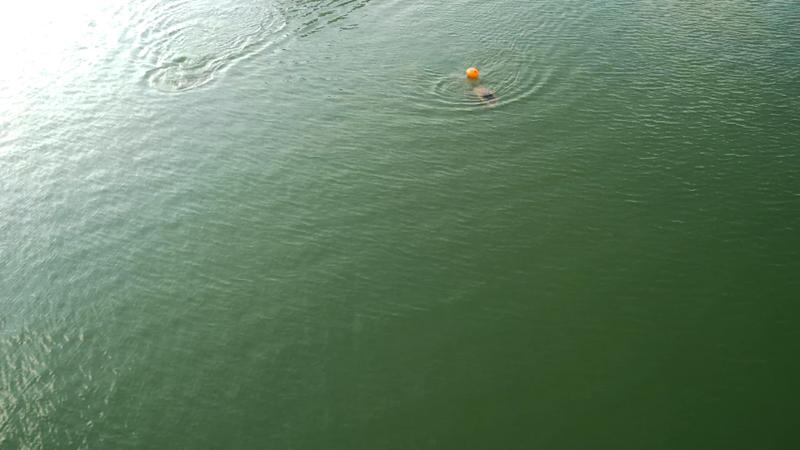swimmers: (468, 83, 495, 104)
